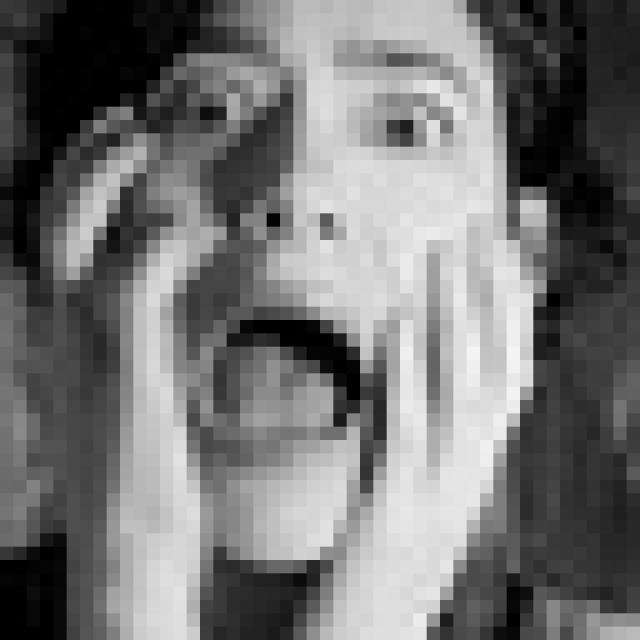fear: (132, 27, 492, 483)
